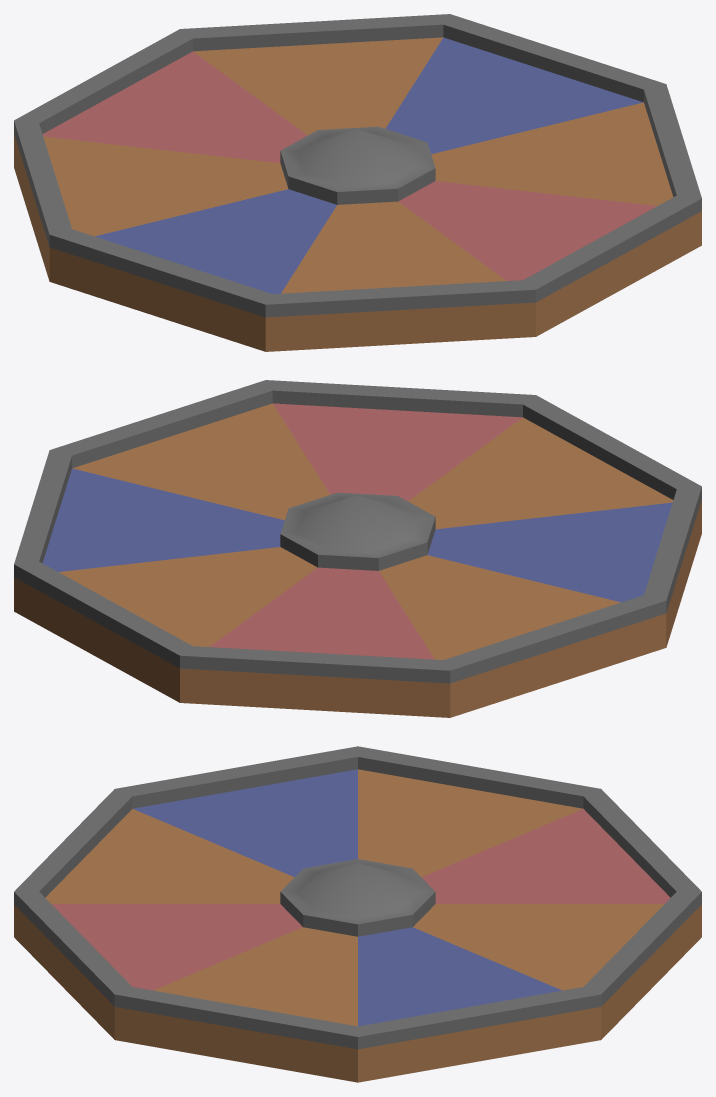
File: shield2.fbx
3 views of the same model, one above another, from view 1: azimuth 30°, elevation 25°; view 2: azimuth 150°, elevation 25°; view 3: azimuth 270°, elevation 25° (orthographic). The views are drawn at different scales.
Parts seen in each view (by area): view 1: pCylinder1; view 2: pCylinder1; view 3: pCylinder1.
Boxes of the visible parts, <box> form: pCylinder1: <box>14,14,701,351</box>; pCylinder1: <box>14,380,701,717</box>; pCylinder1: <box>14,746,701,1082</box>.
Bounding box in the file's own units: 5.05 × 0.6019 × 5.05.
